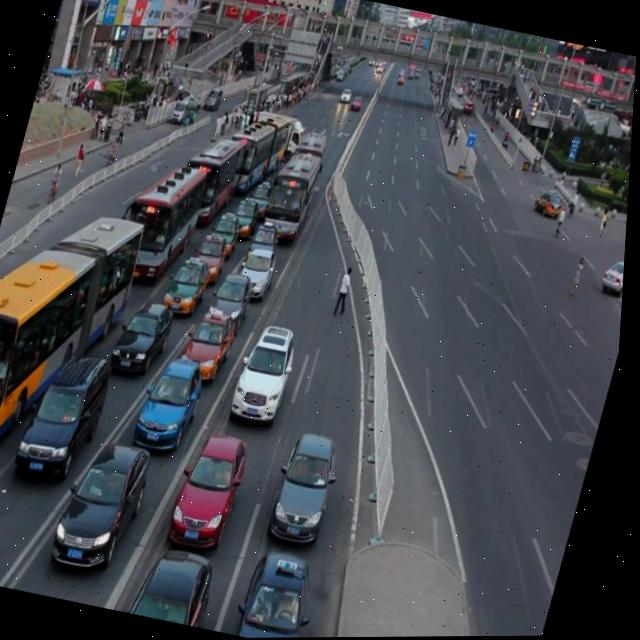bus: (246, 107, 309, 160)
car: (54, 433, 159, 575), (16, 345, 120, 484), (171, 426, 260, 549), (270, 427, 351, 548), (236, 545, 334, 638), (129, 541, 227, 629), (230, 320, 309, 428), (137, 353, 213, 453), (113, 295, 181, 376), (180, 301, 244, 382), (207, 268, 259, 334), (164, 255, 216, 318), (234, 245, 282, 302), (190, 230, 235, 288), (245, 218, 286, 269), (207, 208, 247, 257), (231, 197, 265, 240), (246, 178, 278, 219), (533, 187, 567, 220), (600, 257, 628, 296), (0, 493, 9, 583)
van: (0, 191, 152, 471), (113, 157, 213, 287), (219, 105, 296, 203), (174, 133, 252, 226), (259, 147, 328, 244), (285, 130, 333, 193)
